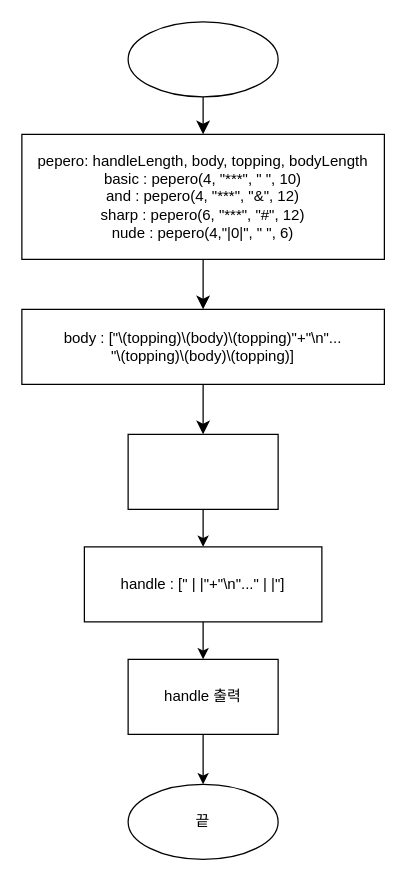
This 406x881 diagram has some shape labels left out. The centre of each missing label's shape, as x and y in pixels:
body 출력: (202,471)
시작: (202,59)
